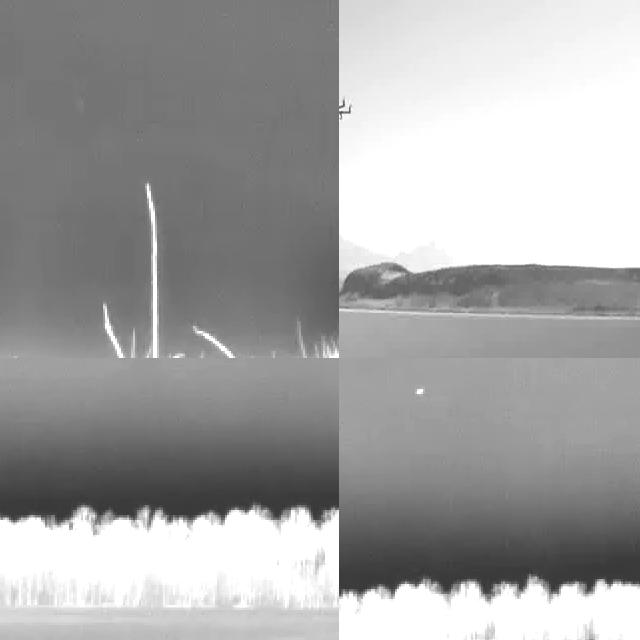0: (73, 90, 95, 124)
1: (412, 382, 436, 406)
drone: (339, 84, 354, 143)
